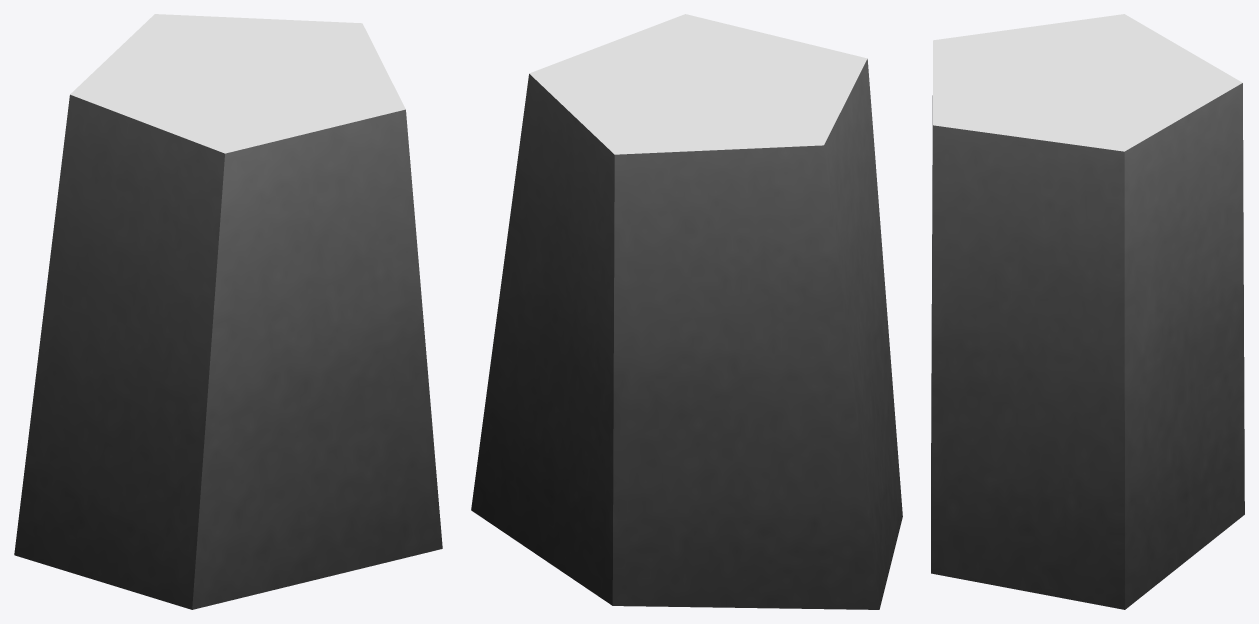
File: Birch_Stump_Snow_04_LOD.fbx
3 renders of one model, left to right at view 1: azimuth 30°, elevation 25°; view 2: azimuth 150°, elevation 25°; view 3: azimuth 270°, elevation 25°, orthographic. The views are drawn at different scales.
Visible parts, largest first — view 1: Birch_Stump_Snow_04_LOD0; view 2: Birch_Stump_Snow_04_LOD0; view 3: Birch_Stump_Snow_04_LOD0.
Part boxes in pixels (x1,y1,x2,y2): Birch_Stump_Snow_04_LOD0: (14,14,442,609); Birch_Stump_Snow_04_LOD0: (471,14,902,609); Birch_Stump_Snow_04_LOD0: (931,14,1244,609).
Size of what is drawn, in the model's own units: 81.96 by 86.42 by 56.98.
